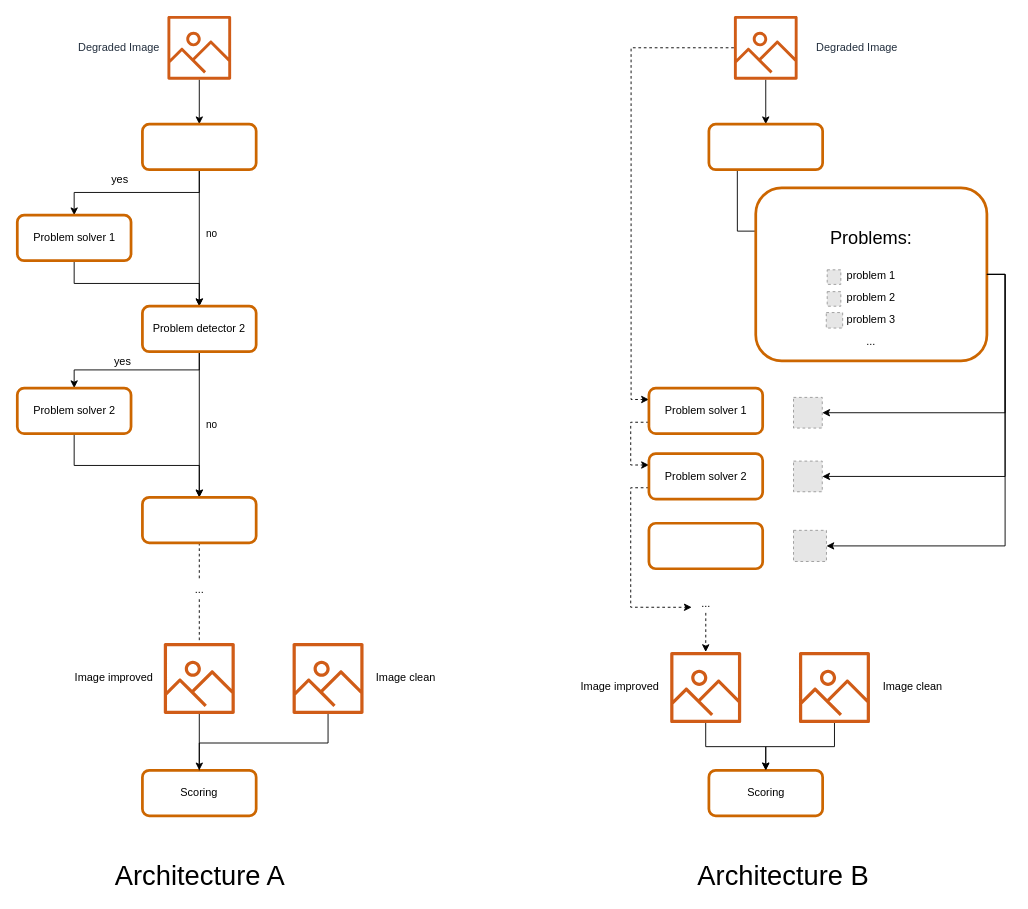
Image size: 1028x909. Some labels were removed from this diagram. Grey dashed boxes stand in for pictures. Each missing label, with the centre of its shape:
Problem detector 1: [199,146]
Problem detector 3: [199,519]
Problem solver 3: [705,545]
Problems detector: [765,146]
